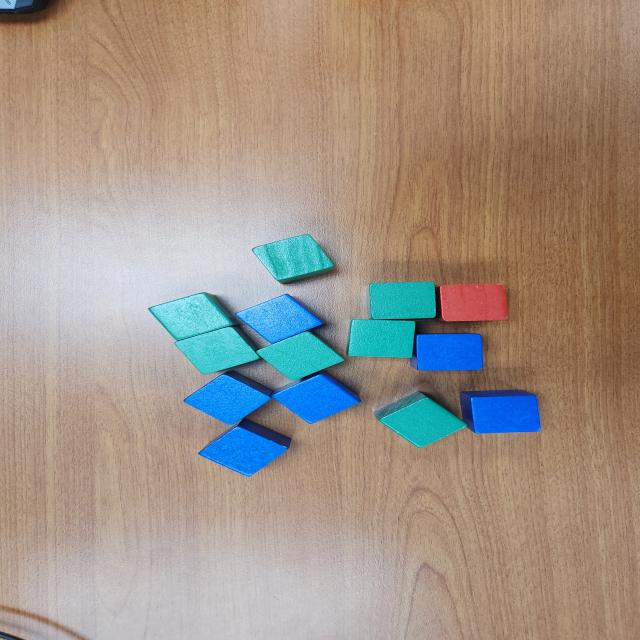blue: (198, 418, 291, 476), (181, 370, 274, 426), (232, 294, 328, 348), (270, 369, 362, 424), (456, 389, 543, 434), (408, 333, 484, 372)
green: (373, 390, 465, 448), (254, 331, 346, 382), (248, 235, 340, 284), (148, 292, 241, 340), (174, 325, 262, 375), (344, 318, 418, 360), (368, 280, 437, 321)
red: (439, 284, 508, 322)
